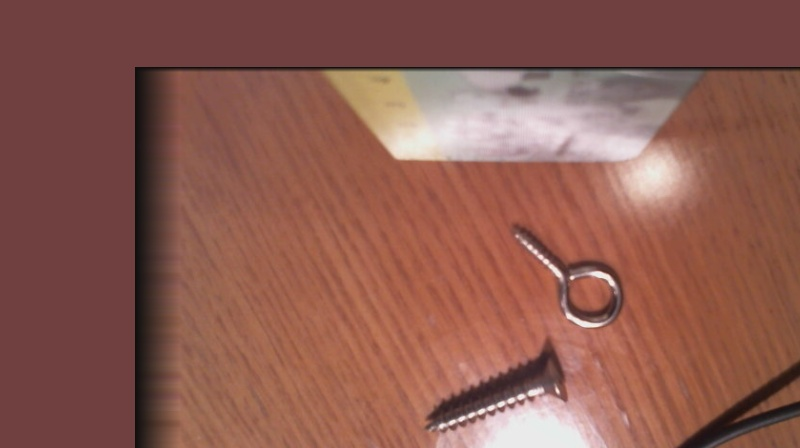O001: (502, 221, 624, 328)
S001: (422, 352, 569, 433)
